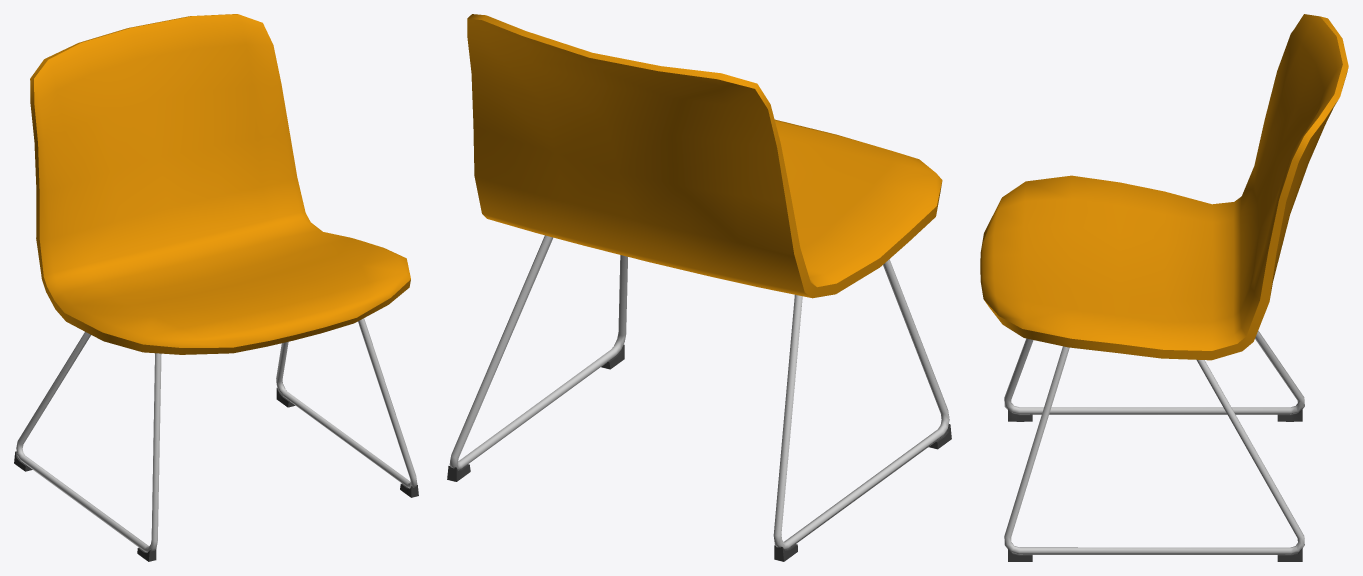
File: sola-matala-tuoli 1.fbx
The picture shows the model from 3 angles, left to right: view 1: azimuth 30°, elevation 25°; view 2: azimuth 150°, elevation 25°; view 3: azimuth 270°, elevation 25°; orthographic projection. The views are drawn at different scales.
Visible parts, largest first — view 1: 377LVED_se, 377DLJ_bas, 377DNJ_gli; view 2: 377LVED_se, 377DLJ_bas, 377DNJ_gli; view 3: 377LVED_se, 377DLJ_bas, 377DNJ_gli.
Boxes of the visible parts, x1=… form: 377LVED_se: x1=30, y1=14, x2=410, y2=354; 377DLJ_bas: x1=16, y1=318, x2=417, y2=552; 377DNJ_gli: x1=14, y1=387, x2=418, y2=561; 377LVED_se: x1=467, y1=14, x2=942, y2=298; 377DLJ_bas: x1=449, y1=235, x2=949, y2=550; 377DNJ_gli: x1=447, y1=344, x2=951, y2=561; 377LVED_se: x1=980, y1=14, x2=1348, y2=360; 377DLJ_bas: x1=1004, y1=330, x2=1304, y2=554; 377DNJ_gli: x1=1008, y1=408, x2=1302, y2=561.
Size of the model in its own units: 150 by 184 by 144.
